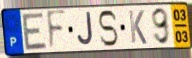9: (150, 7, 172, 46)
E: (21, 11, 49, 52)
F: (45, 8, 68, 53)
J: (76, 11, 95, 48)
K: (127, 9, 148, 46)
S: (97, 9, 119, 49)
